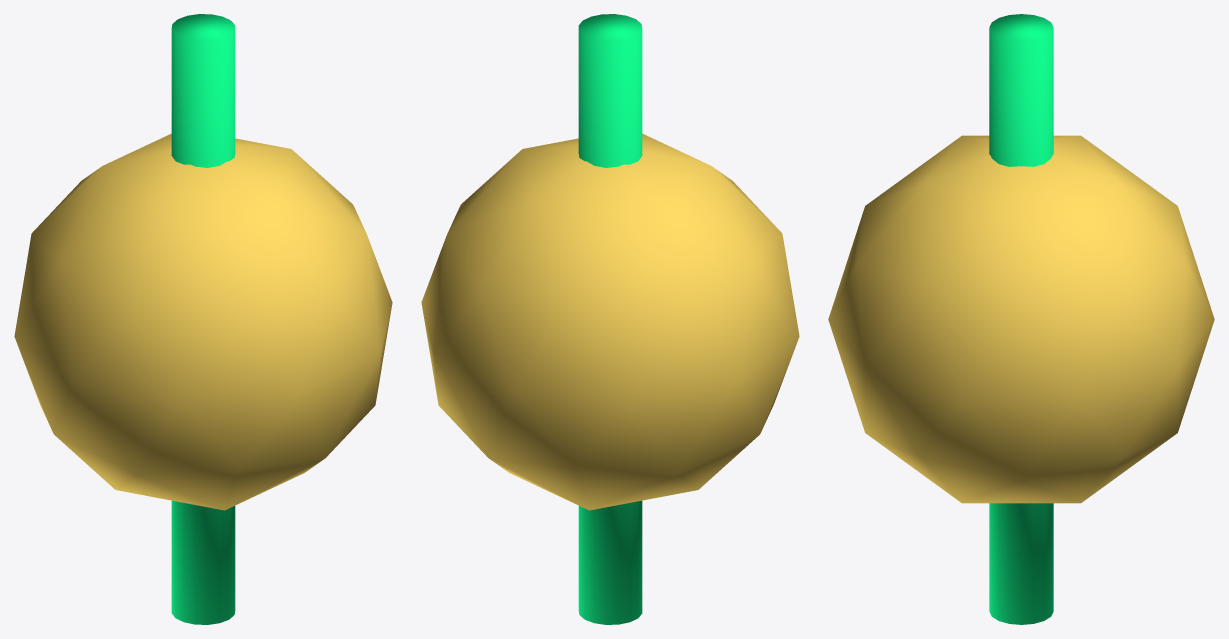
File: FlowerBall.glb
The picture shows the model from 3 angles, left to right: view 1: azimuth 30°, elevation 25°; view 2: azimuth 150°, elevation 25°; view 3: azimuth 270°, elevation 25°; orthographic projection.
Visible parts, largest first — view 1: flowerBallInt; view 2: flowerBallInt; view 3: flowerBallInt.
Part boxes in pixels (x1=…): flowerBallInt: x1=14, y1=14, x2=392, y2=624; flowerBallInt: x1=421, y1=14, x2=799, y2=624; flowerBallInt: x1=828, y1=14, x2=1214, y2=624.
Size of the model in its own units: 1.14 by 2 by 1.2.
